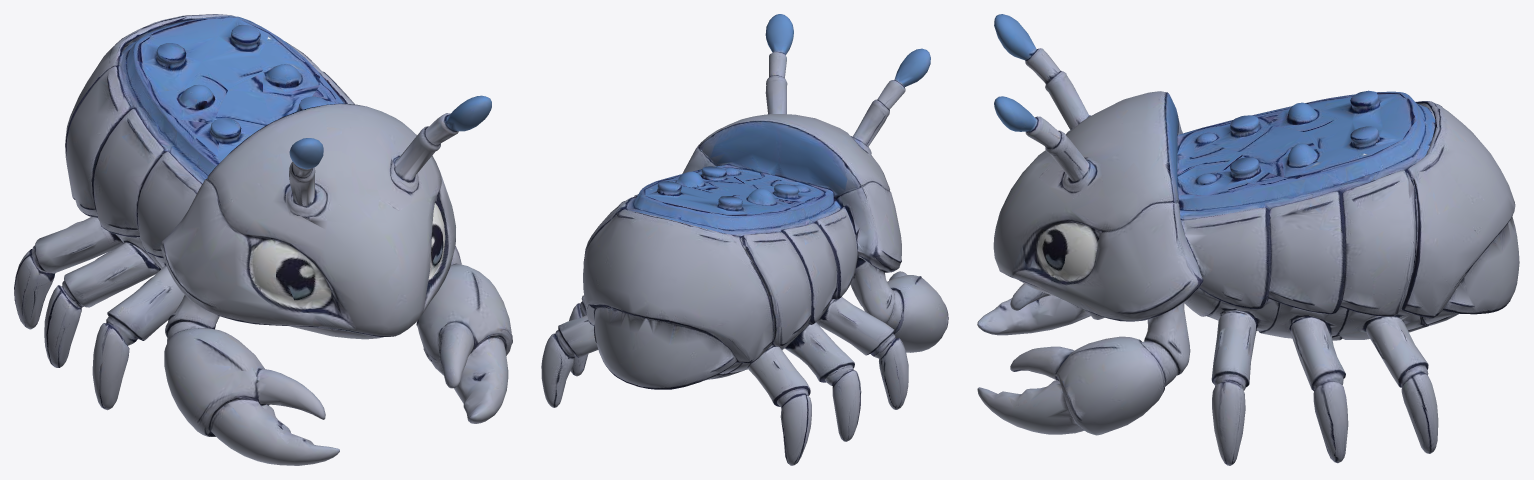
3 views of the same model, side by side, from view 1: azimuth 30°, elevation 25°; view 2: azimuth 150°, elevation 25°; view 3: azimuth 270°, elevation 25° (orthographic). The views are drawn at different scales.
Parts seen in each view (by area): view 1: Mesh_0; view 2: Mesh_0; view 3: Mesh_0.
Part boxes in pixels (bbox=[...]): Mesh_0: bbox=[14, 14, 512, 465]; Mesh_0: bbox=[541, 14, 948, 465]; Mesh_0: bbox=[977, 14, 1519, 465].
Size of the model in its own units: 1.46 by 1.27 by 1.9.
Materials: 1 (1 with a texture image).
